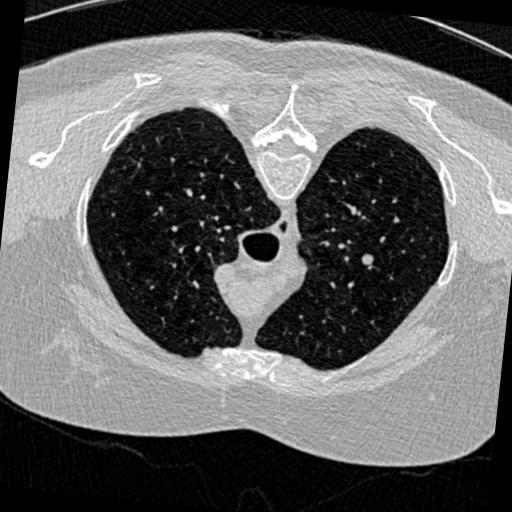nodule: (357, 252, 375, 270)
